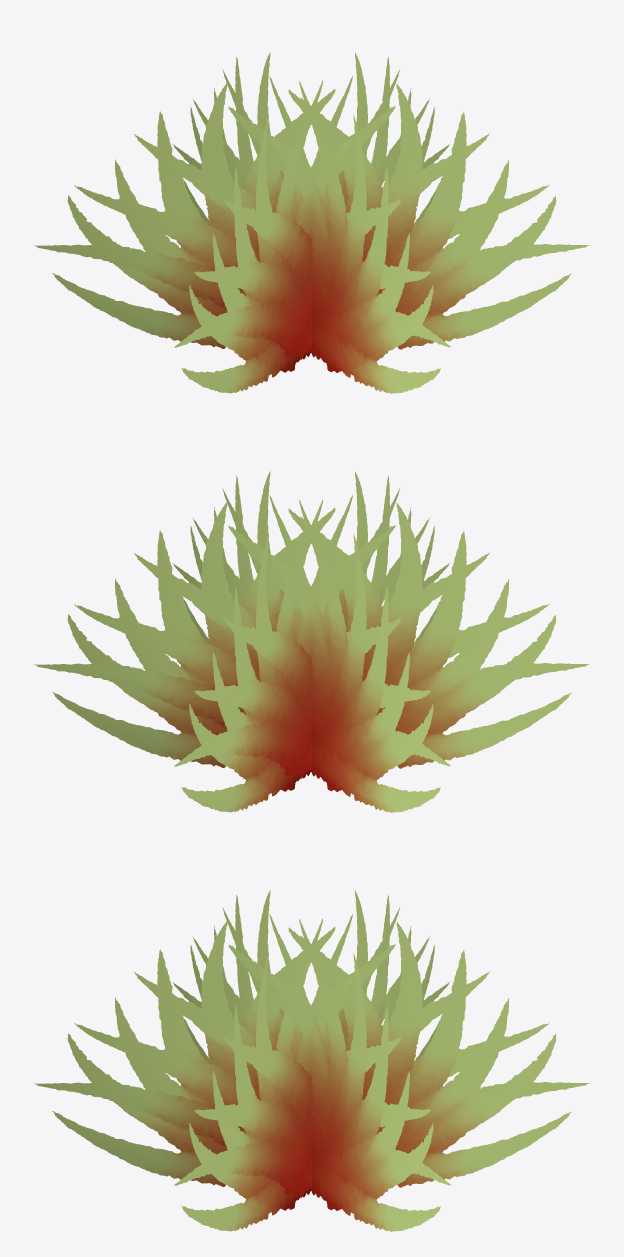
The model's file is HP3_weed073 1.fbx.
3 views of the same model, one above another, from view 1: azimuth 30°, elevation 25°; view 2: azimuth 150°, elevation 25°; view 3: azimuth 270°, elevation 25° (orthographic).
Visible parts, largest first — view 1: HP3_weed073; view 2: HP3_weed073; view 3: HP3_weed073.
Boxes of the visible parts, x1,y1,x2,y2 form: HP3_weed073: (34, 52, 589, 393); HP3_weed073: (34, 471, 589, 812); HP3_weed073: (34, 890, 589, 1231).
Size of the model in its own units: 9.04 by 5.93 by 10.43.
